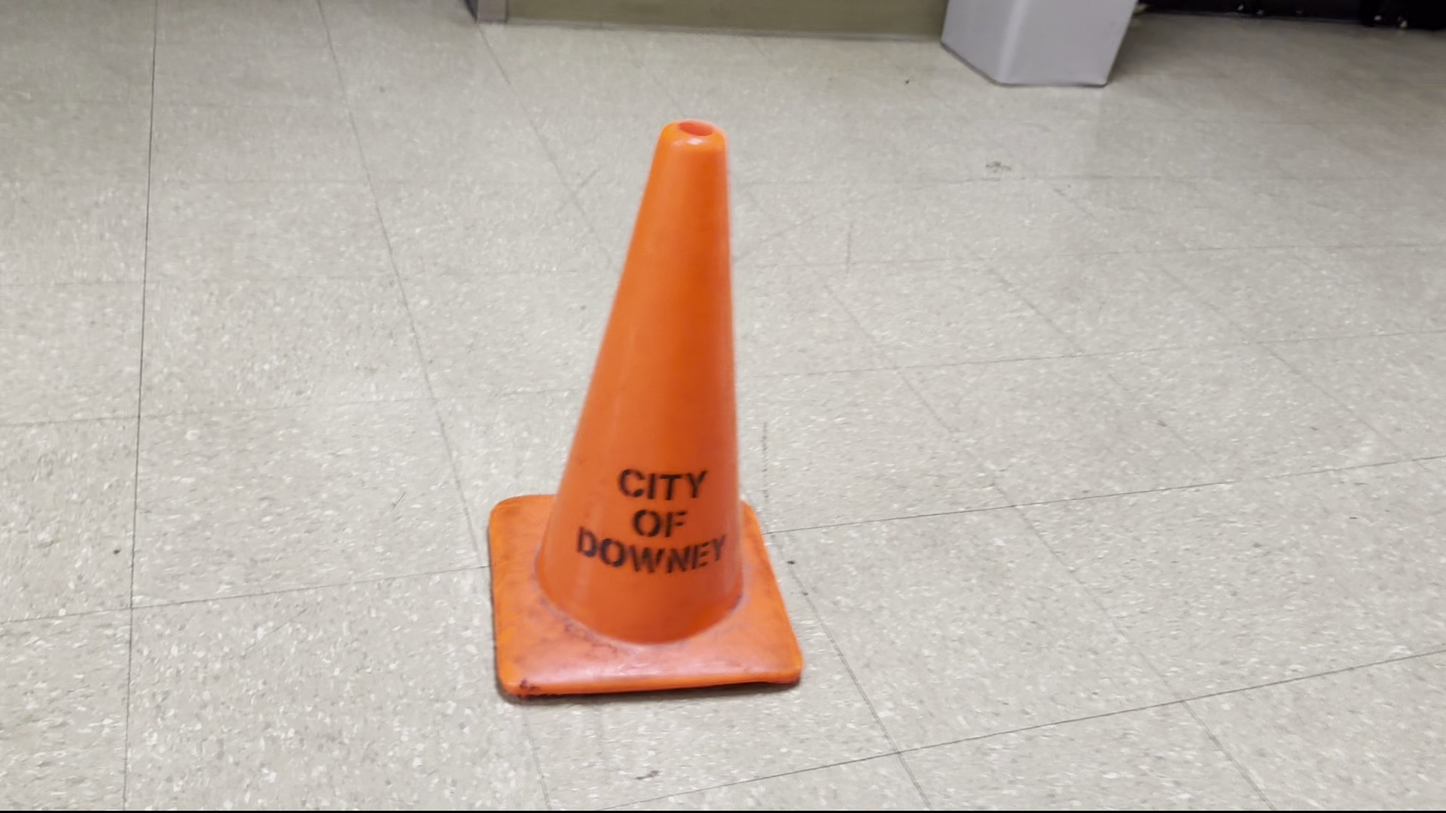traffic_cone: (487, 118, 804, 700)
